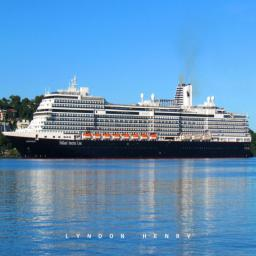cruises: (5, 75, 256, 162)
